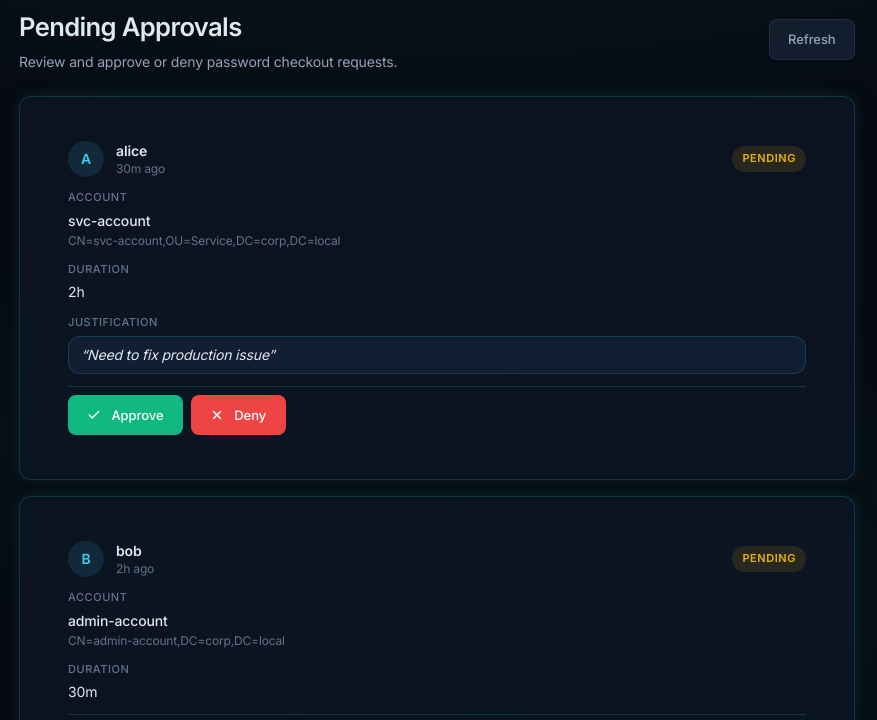
Scenario: Approvals › shows error message when decision fails
Check: the text "alice" is shown, box [116,142,147,159]
Click the button "Approve" below "Need to fix production issue" at (125, 415), box [68,395,183,435]
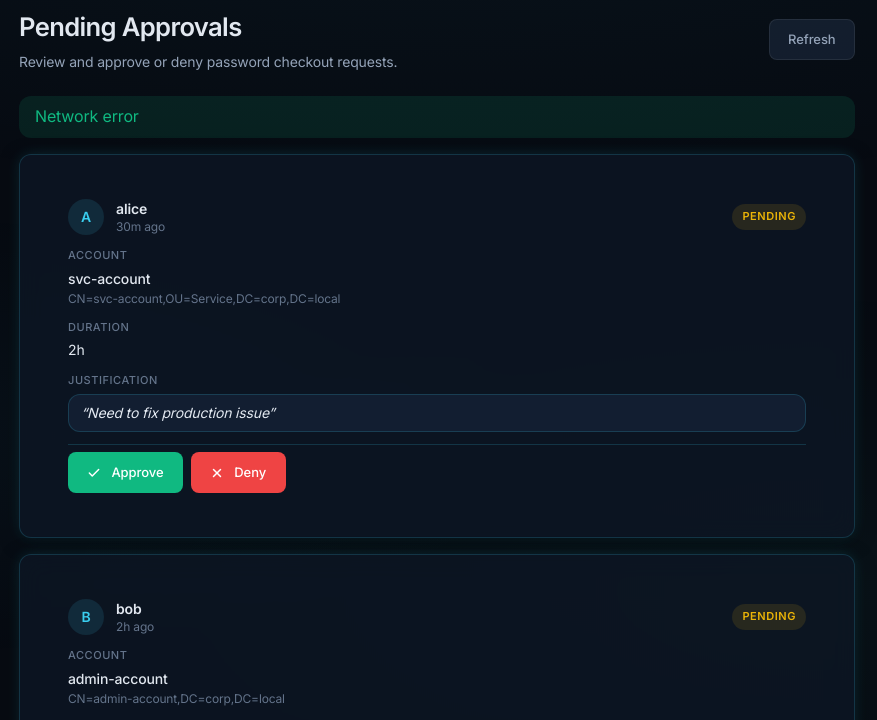
Check: the text "Network error" is shown, box [19,96,855,138]
